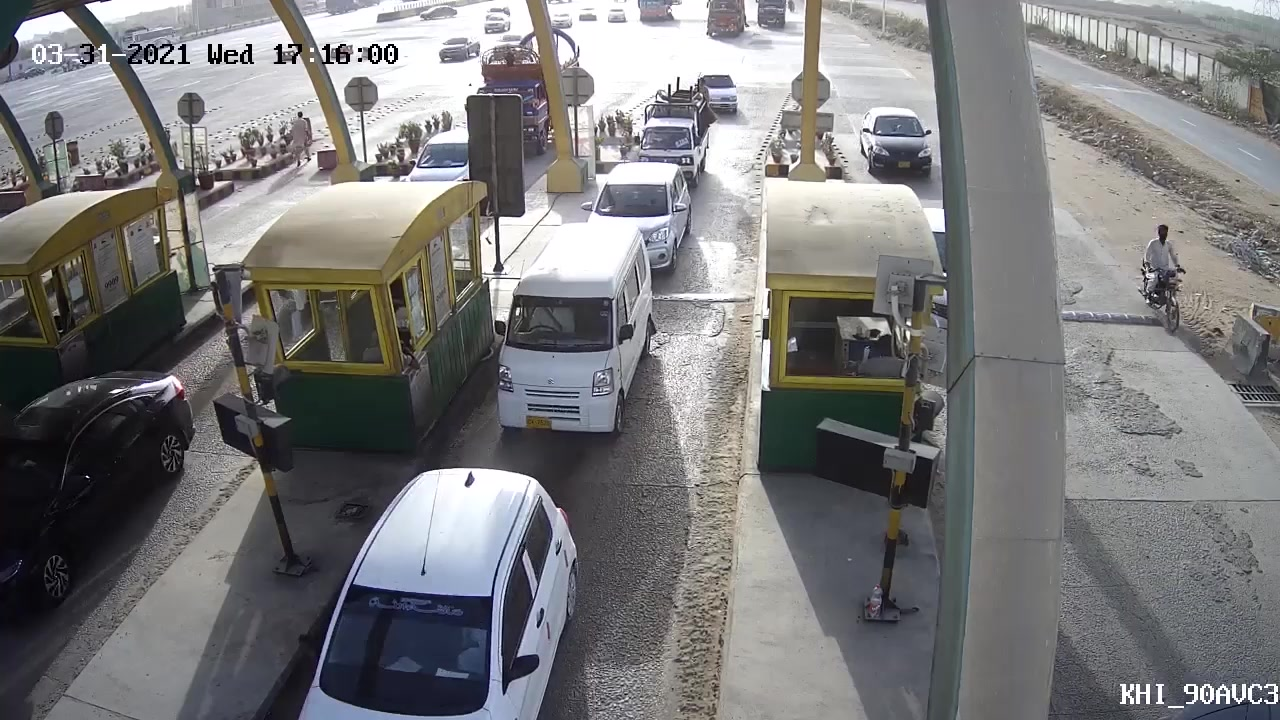F1: (489, 225, 657, 447)
